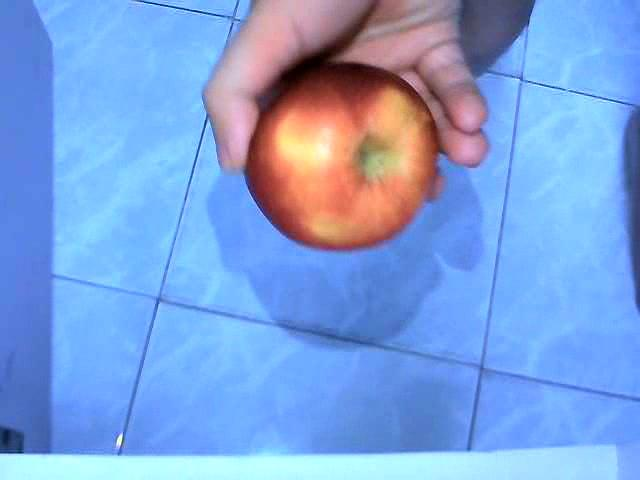apple: (242, 62, 440, 252)
